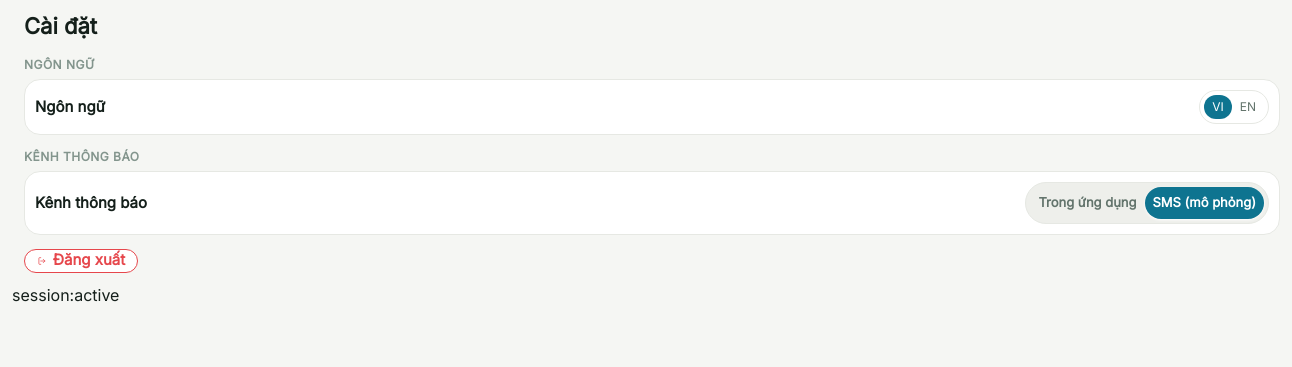
it: SettingsPage (SCR-10 Settings) › Error: shows the invalid-choice message when the channel save is rejected
Click the button "SMS (mô phỏng)".
click(1204, 203)  # box [1144,187,1264,218]
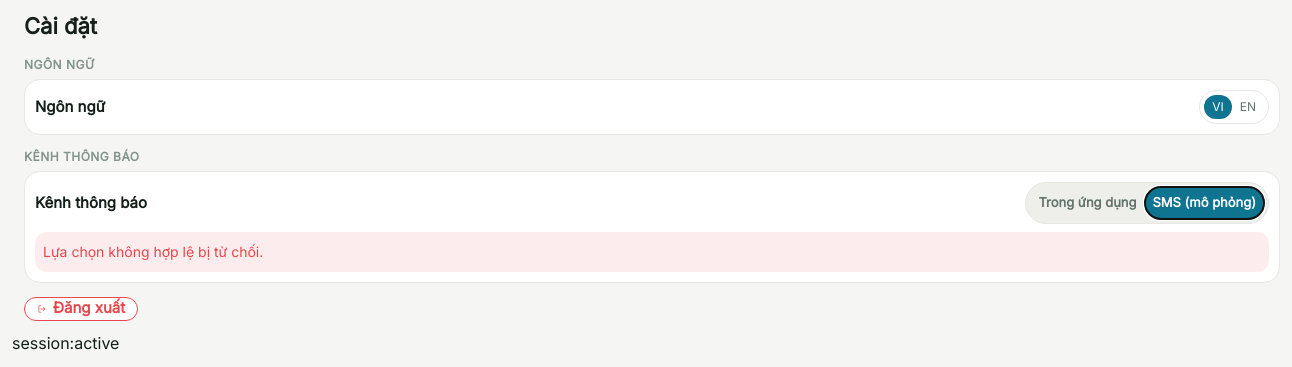
Expected: the text "Lựa chọn không hợp lệ bị từ chối." is shown, [35,232,1269,272]
